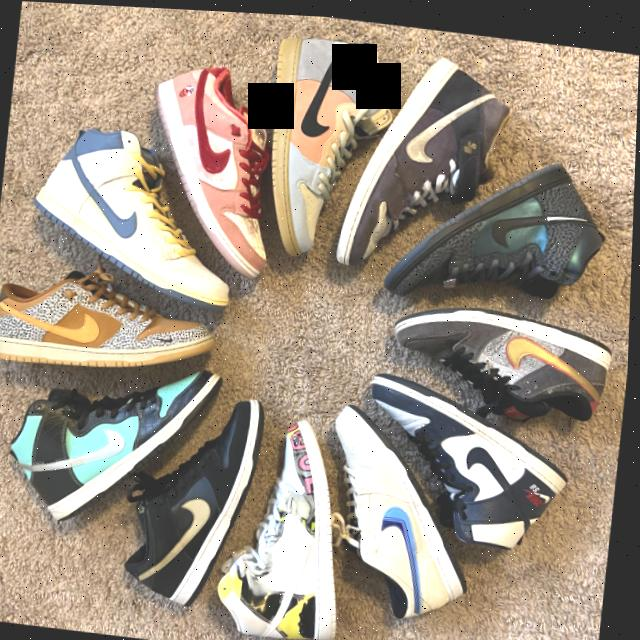shoes: (325, 38, 522, 290), (25, 113, 255, 314), (354, 361, 583, 558), (2, 344, 228, 543), (382, 136, 615, 317), (312, 393, 490, 627), (253, 24, 407, 269), (134, 51, 294, 284), (116, 374, 270, 615), (209, 406, 366, 640), (383, 294, 619, 431), (0, 255, 225, 382)
